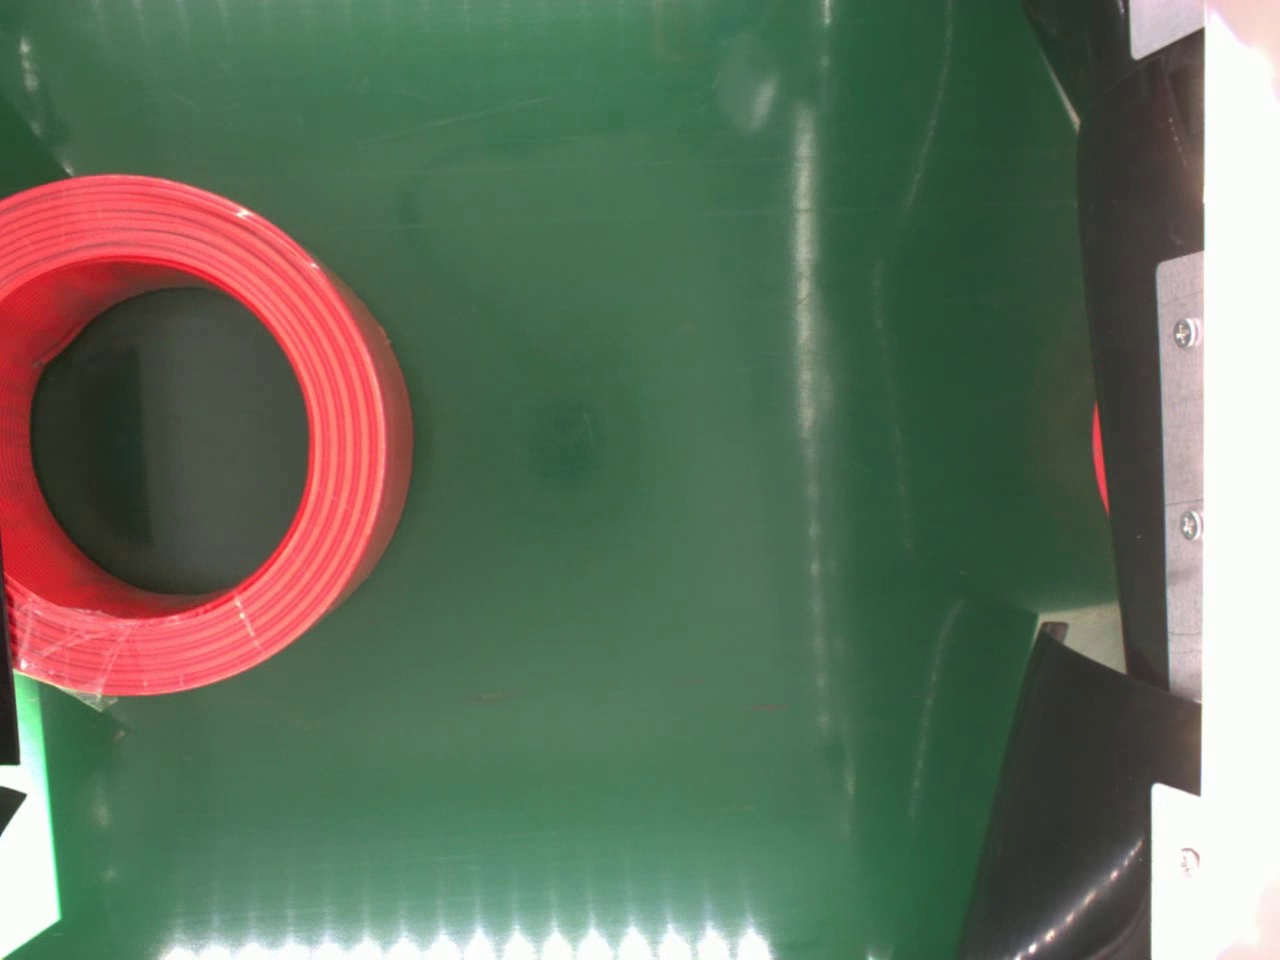red: (0, 172, 411, 698)
